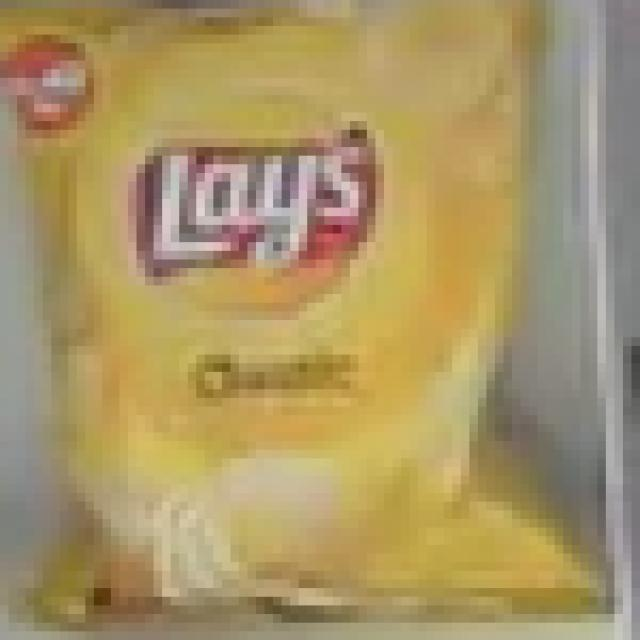Plastic: (0, 0, 606, 614)
